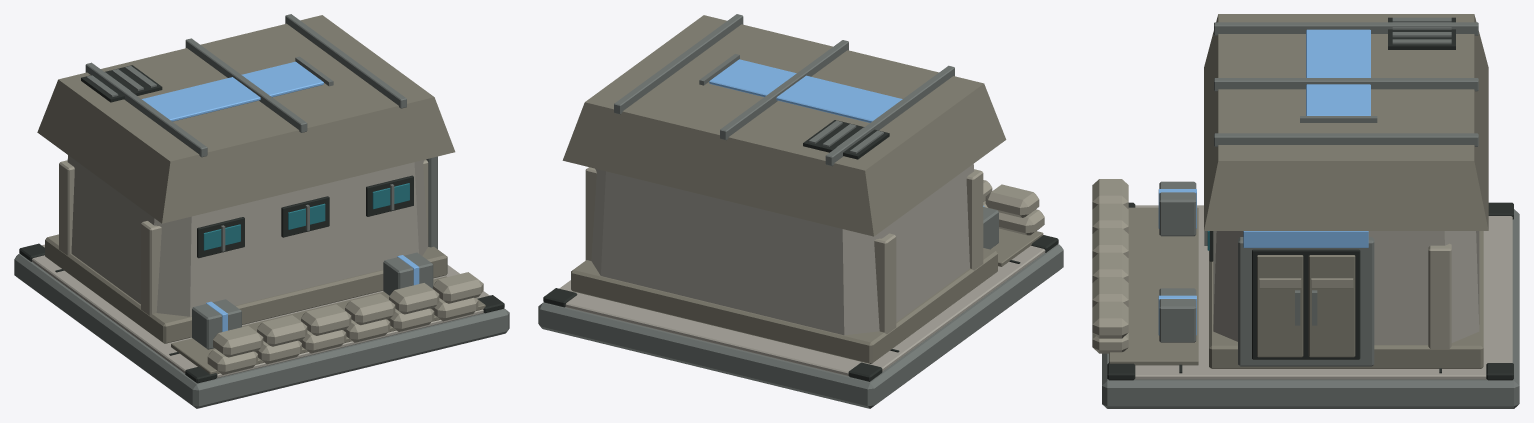
Rendered from barracks.glb.
3 views of the same model, side by side, from view 1: azimuth 30°, elevation 25°; view 2: azimuth 150°, elevation 25°; view 3: azimuth 270°, elevation 25° (orthographic). The views are drawn at different scales.
Visible parts, largest first — view 1: barracks; view 2: barracks; view 3: barracks.
Part boxes in pixels (left/top/right/bottom): barracks: left=14, top=14, right=509, bottom=408; barracks: left=538, top=14, right=1063, bottom=408; barracks: left=1092, top=14, right=1519, bottom=408.
Size of the model in its own units: 2.7 by 1.74 by 2.76.
